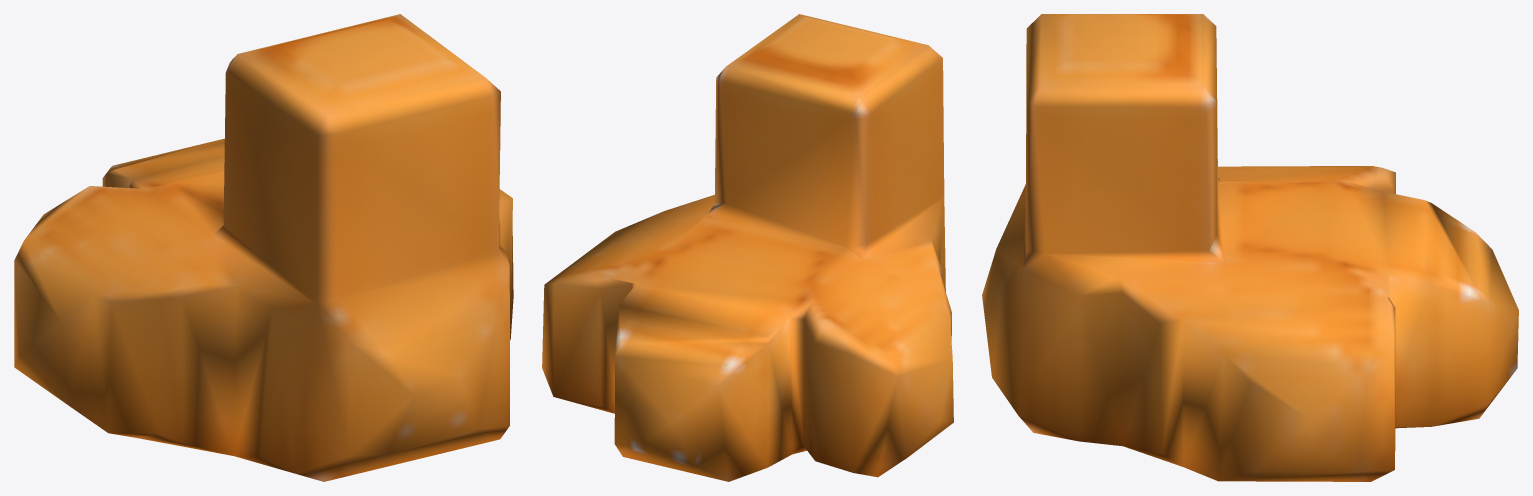
3 views of the same model, side by side, from view 1: azimuth 30°, elevation 25°; view 2: azimuth 150°, elevation 25°; view 3: azimuth 270°, elevation 25° (orthographic). The views are drawn at different scales.
Size of the model in its own units: 1.3 by 0.9982 by 1.34.
1 material, 1 textured.
